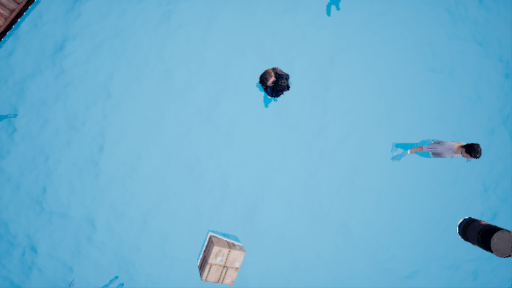person: (385, 136, 494, 170), (251, 68, 298, 112)
